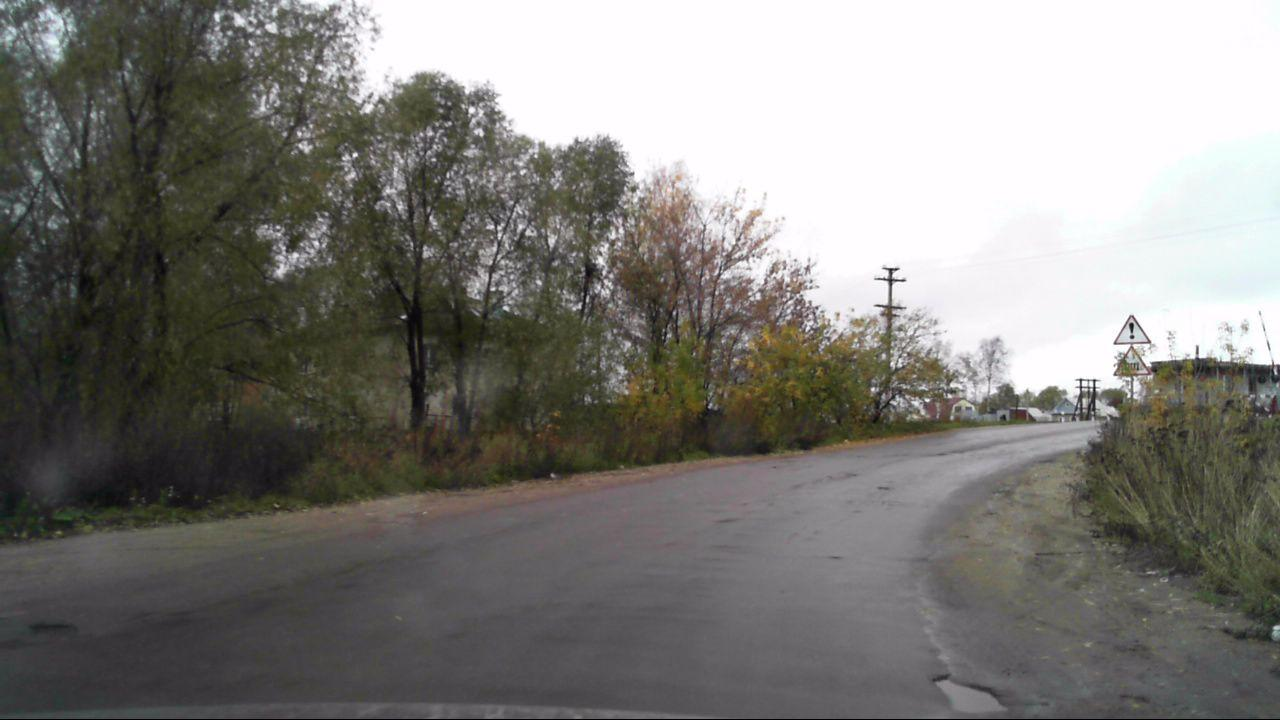1_1: (1112, 346, 1152, 376)
1_33: (1112, 312, 1152, 346)
